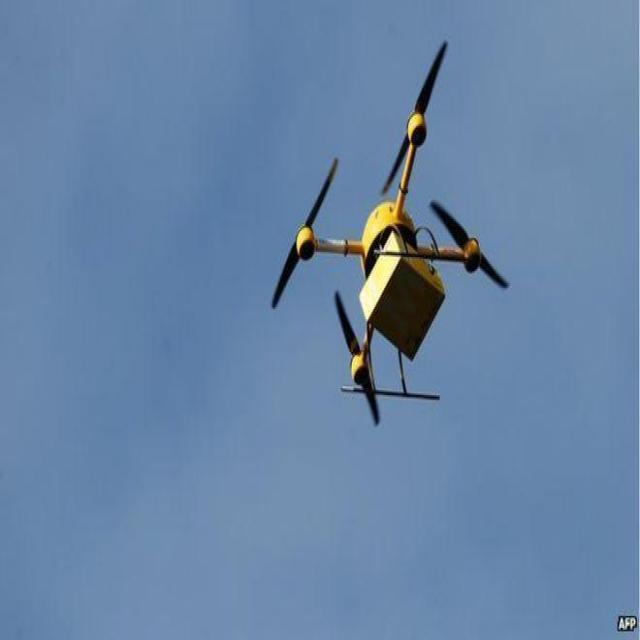drone: (270, 38, 510, 427)
